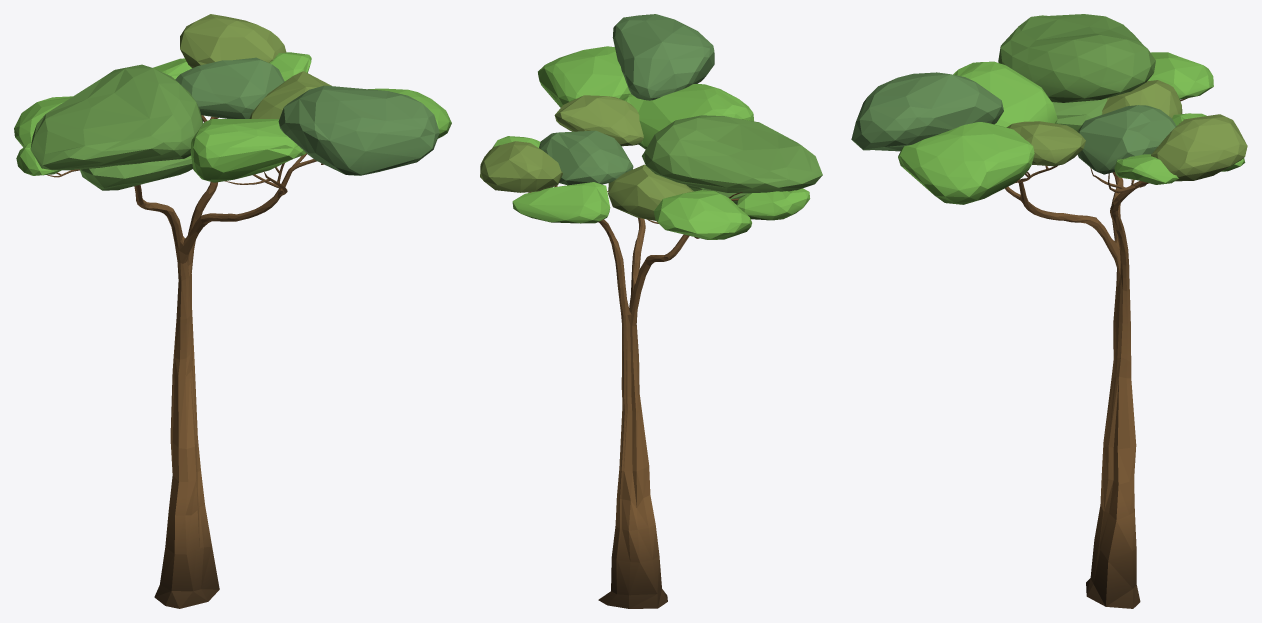
Rendered from JungleTree_Tall_A.fbx.
The picture shows the model from 3 angles, left to right: view 1: azimuth 30°, elevation 25°; view 2: azimuth 150°, elevation 25°; view 3: azimuth 270°, elevation 25°; orthographic projection. The views are drawn at different scales.
Parts seen in each view (by area): view 1: JungleTree_Tall_A; view 2: JungleTree_Tall_A; view 3: JungleTree_Tall_A.
Part boxes in pixels (<box>): JungleTree_Tall_A: <box>14,14,451,608</box>; JungleTree_Tall_A: <box>480,14,822,608</box>; JungleTree_Tall_A: <box>851,14,1247,608</box>.
Size of the model in its own units: 20.61 by 30.24 by 19.94.
